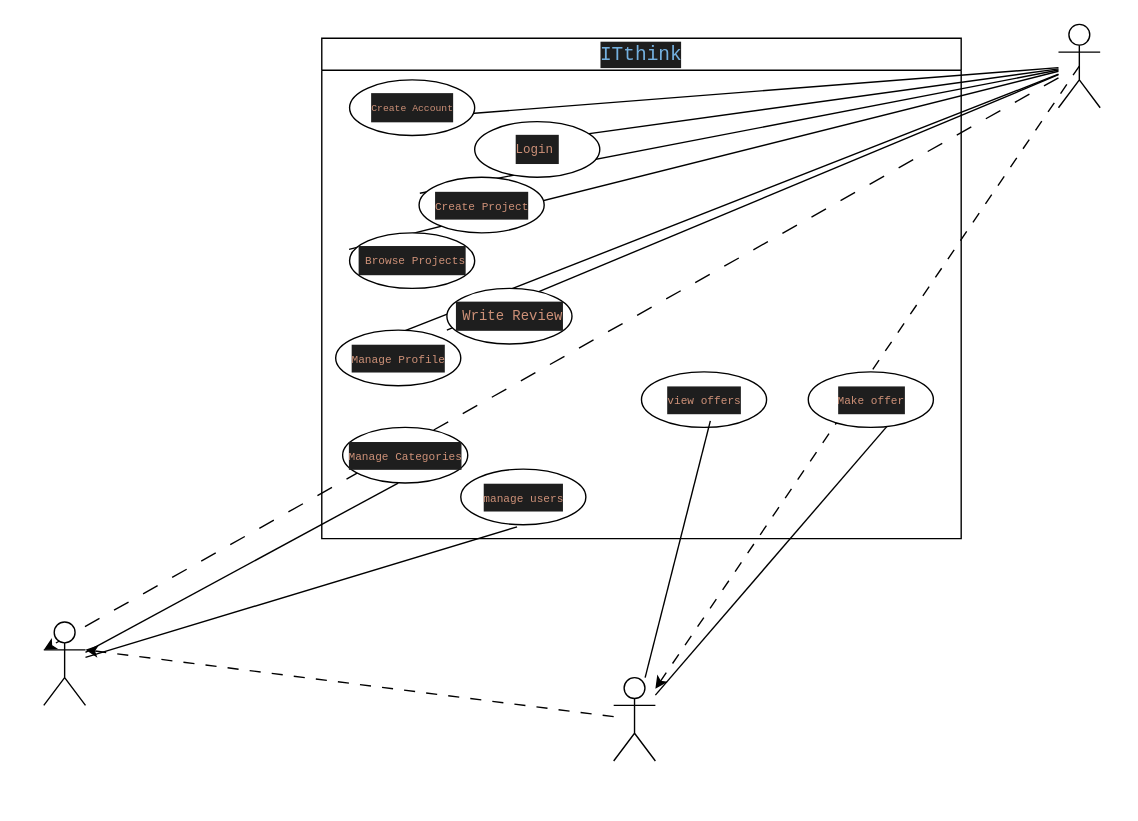
The diagram is 1138 pixels wide and 821 high, and some of its shapes have lost their labels. Each missing label, with the centre of its shape:
"(Admin)" goes at [63,663].
"(Freelancer)" goes at [633,718].
"(User)" goes at [1078,65].
